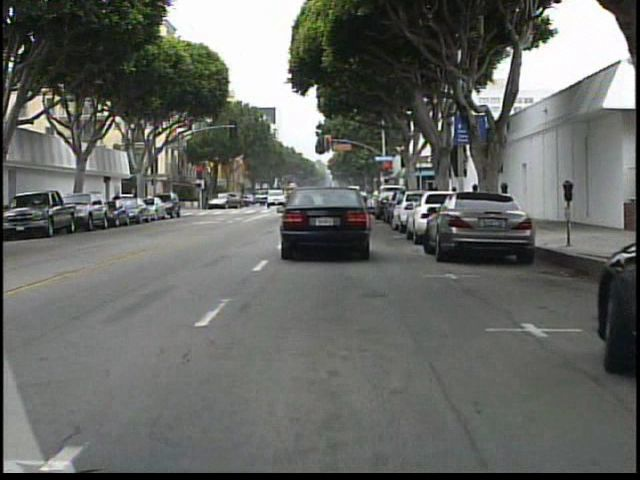person: (111, 189, 125, 219)
